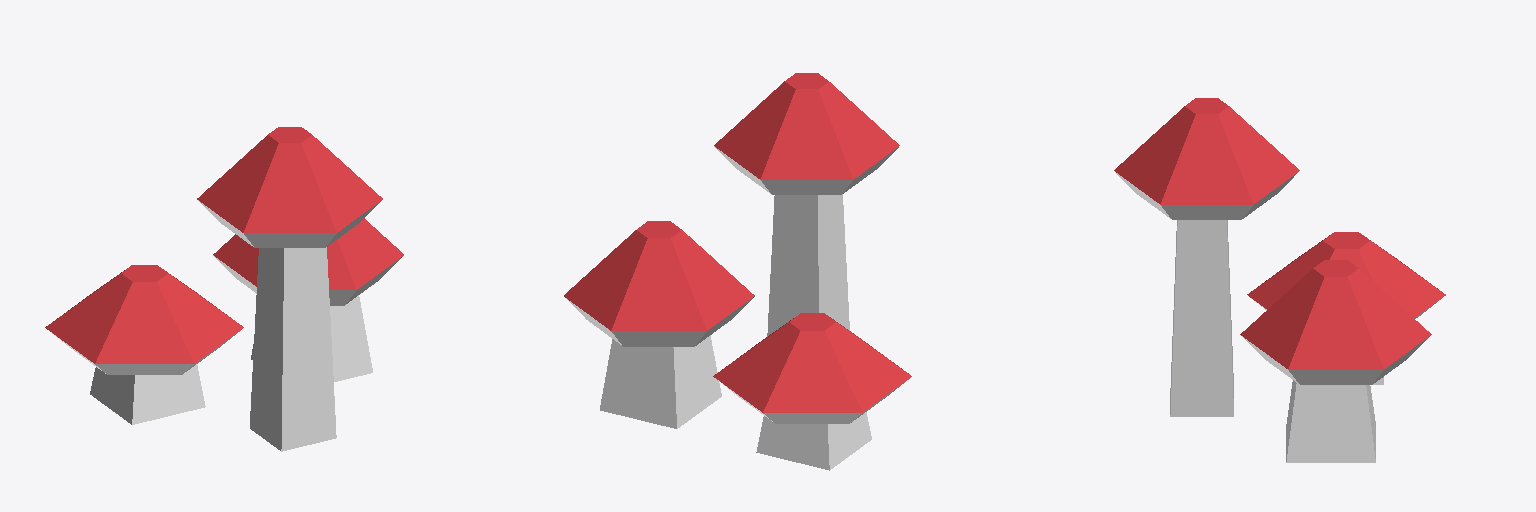
Rendered from mushroom_redGroup.obj.
3 views of the same model, side by side, from view 1: azimuth 30°, elevation 25°; view 2: azimuth 150°, elevation 25°; view 3: azimuth 270°, elevation 25° (orthographic).
Visible parts, largest first — view 1: mushroom_redGroup; view 2: mushroom_redGroup; view 3: mushroom_redGroup.
Part boxes in pixels (left/top/right/bottom): mushroom_redGroup: left=45, top=127, right=403, bottom=451; mushroom_redGroup: left=564, top=73, right=911, bottom=470; mushroom_redGroup: left=1114, top=98, right=1445, bottom=462.
Bounding box in the file's own units: 2.7 × 2.5 × 2.54.